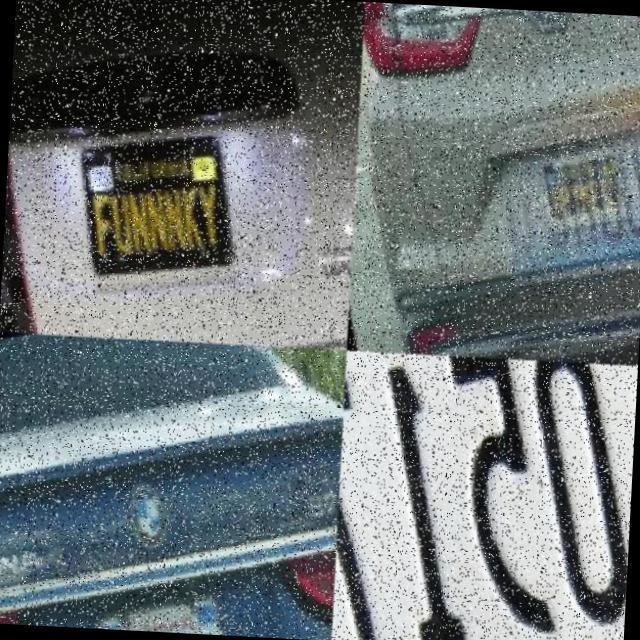License Plate: (330, 348, 638, 640), (64, 118, 240, 292), (87, 576, 255, 636), (530, 146, 626, 244)
